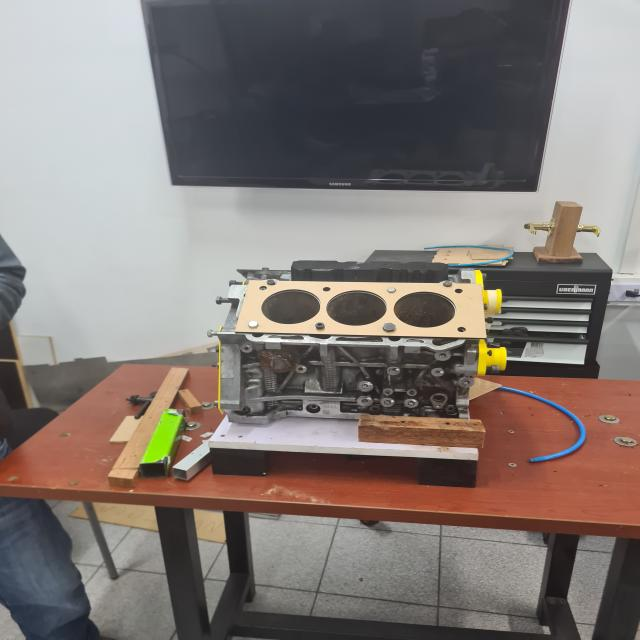vista1: (235, 280, 486, 337)
